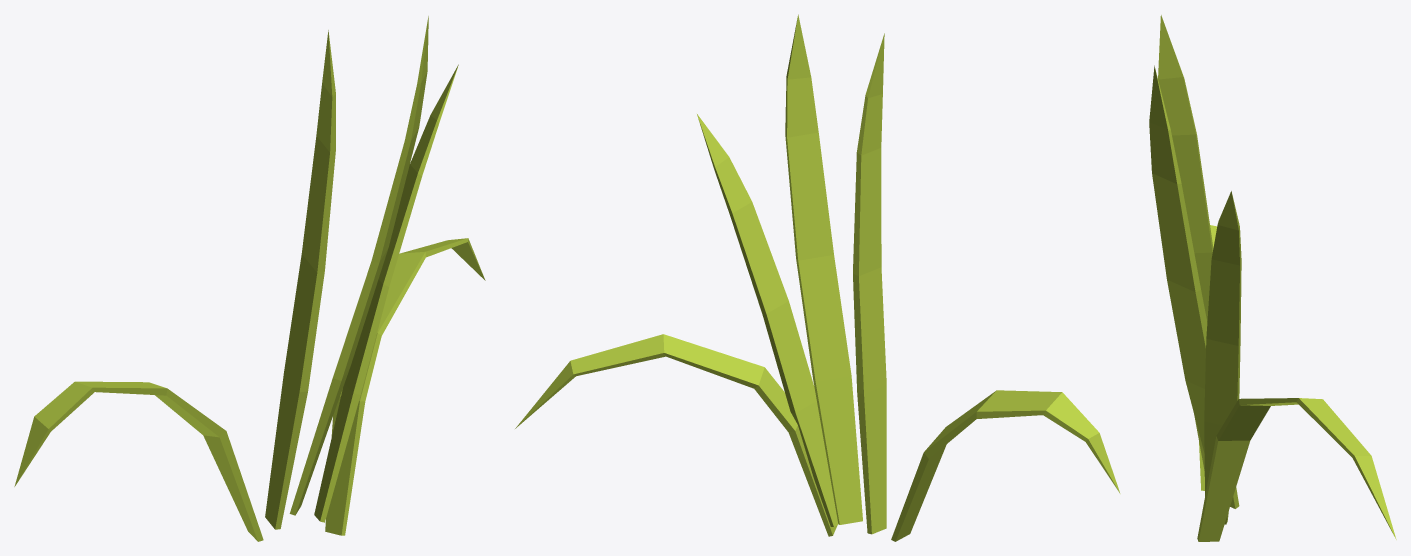
The model's file is grass_03.fbx.
3 renders of one model, left to right at view 1: azimuth 30°, elevation 25°; view 2: azimuth 150°, elevation 25°; view 3: azimuth 270°, elevation 25°, orthographic. The views are drawn at different scales.
Visible parts, largest first — view 1: grass_003; view 2: grass_003; view 3: grass_003.
Boxes of the visible parts, x1=… form: grass_003: x1=14, y1=16, x2=485, y2=541; grass_003: x1=515, y1=14, x2=1120, y2=541; grass_003: x1=1149, y1=15, x2=1396, y2=541.
Size of the model in its own units: 105 by 94.32 by 41.23.
